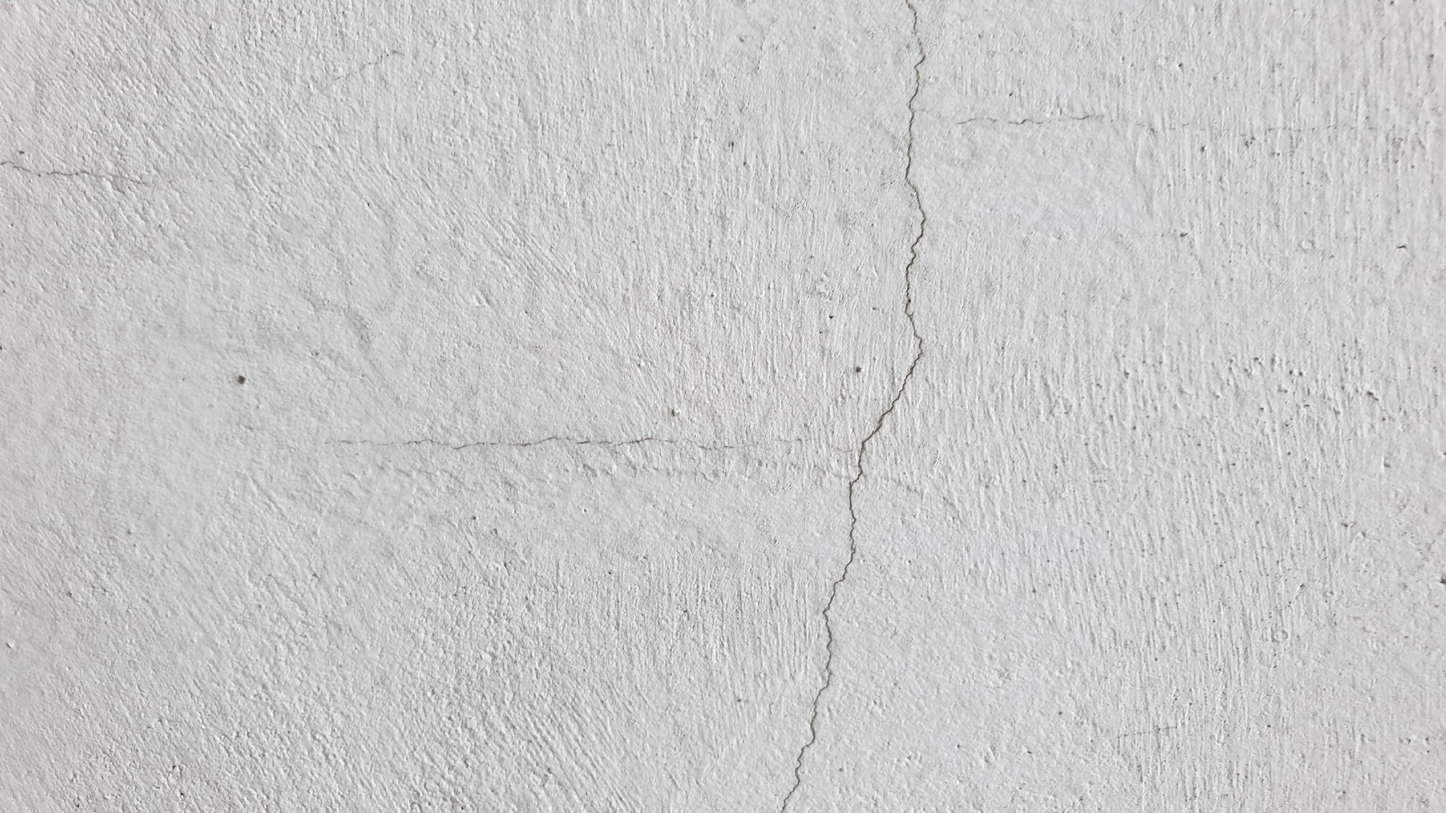crack: (781, 1, 926, 812)
